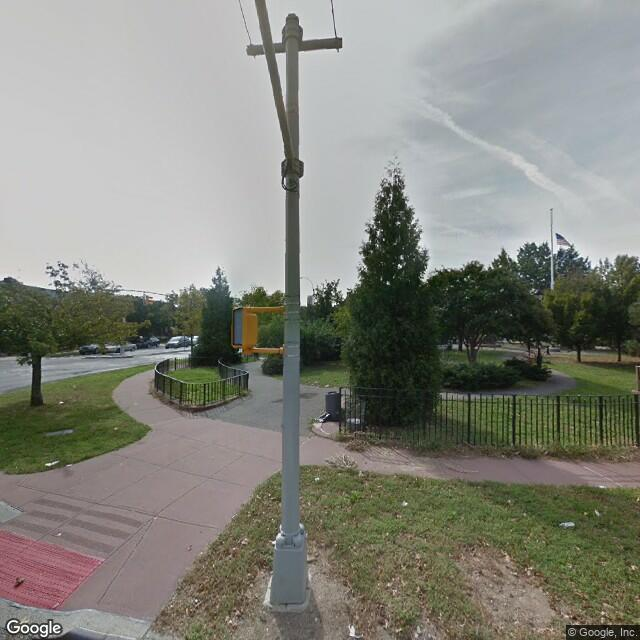litter: (34, 455, 104, 480), (330, 616, 384, 640), (548, 504, 582, 535), (53, 523, 80, 544), (588, 476, 615, 493), (306, 468, 326, 486), (588, 502, 606, 522), (398, 497, 414, 514), (59, 396, 67, 410)
